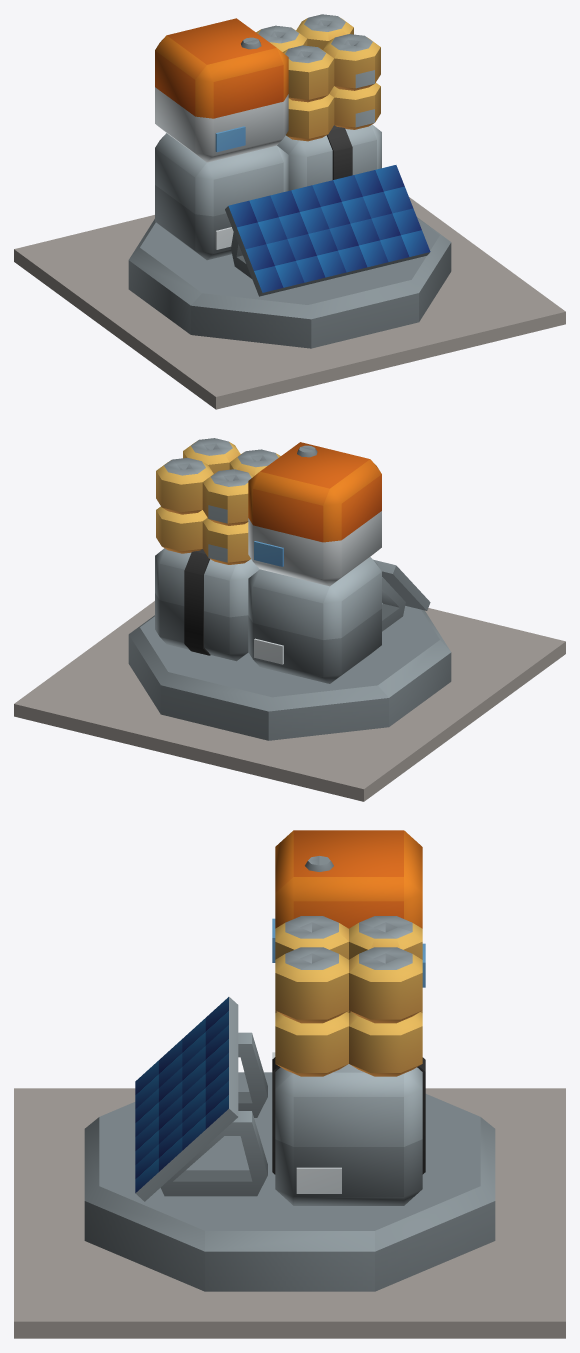
The model's file is cargo_depot_small.glb.
The picture shows the model from 3 angles, top to bottom: view 1: azimuth 30°, elevation 25°; view 2: azimuth 150°, elevation 25°; view 3: azimuth 270°, elevation 25°; orthographic projection. The views are drawn at different scales.
Parts seen in each view (by area): view 1: Cargodepot_Small; view 2: Cargodepot_Small; view 3: Cargodepot_Small.
Boxes of the visible parts, box(x1,y1,x2,y2) form: Cargodepot_Small: box(14, 14, 565, 409); Cargodepot_Small: box(14, 438, 565, 801); Cargodepot_Small: box(14, 830, 565, 1338).
Size of the model in its own units: 0.29 by 0.1987 by 0.29.
1 material, 1 textured.
